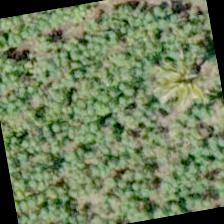Kelapa_Sawit: (137, 23, 223, 126)
